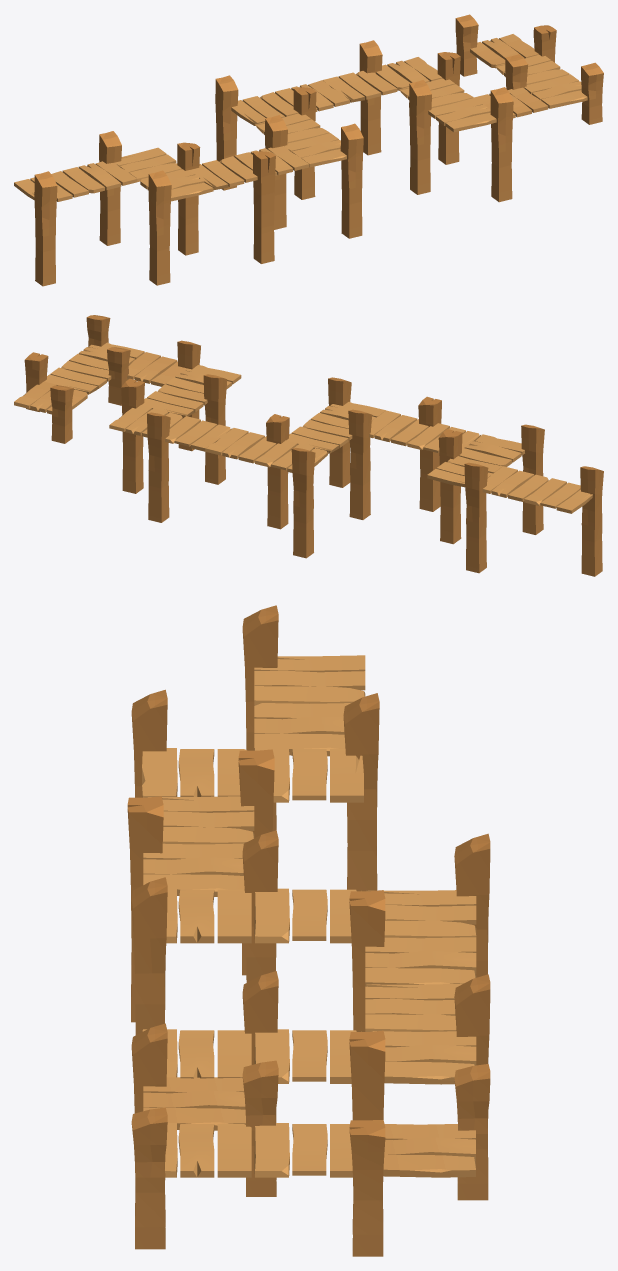
Rendered from m_bg_docks_02.fbx.
3 views of the same model, one above another, from view 1: azimuth 30°, elevation 25°; view 2: azimuth 150°, elevation 25°; view 3: azimuth 270°, elevation 25° (orthographic). The views are drawn at different scales.
Parts seen in each view (by area): view 1: m_bg_docks_02; view 2: m_bg_docks_02; view 3: m_bg_docks_02.
Part boxes in pixels (x1,y1,x2,y2): m_bg_docks_02: [14, 14, 603, 286]; m_bg_docks_02: [14, 315, 603, 576]; m_bg_docks_02: [127, 605, 490, 1256].
Size of the model in its own units: 5631 by 1107 by 1636.
